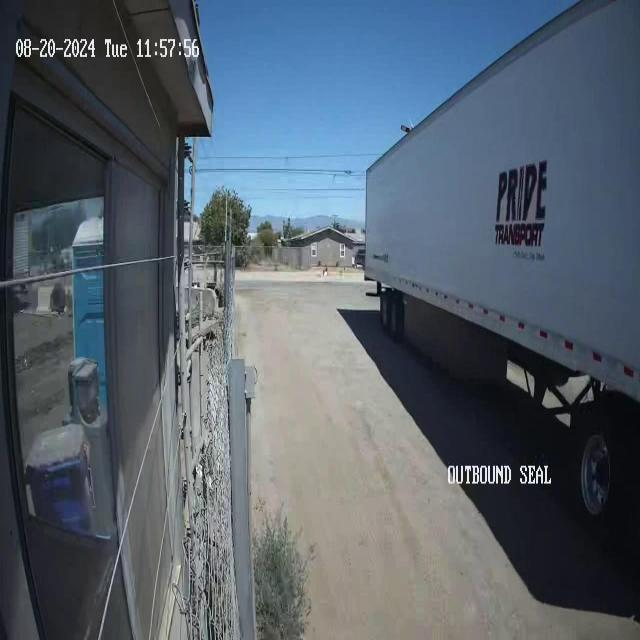TRUCK_IN: (363, 1, 639, 520)
